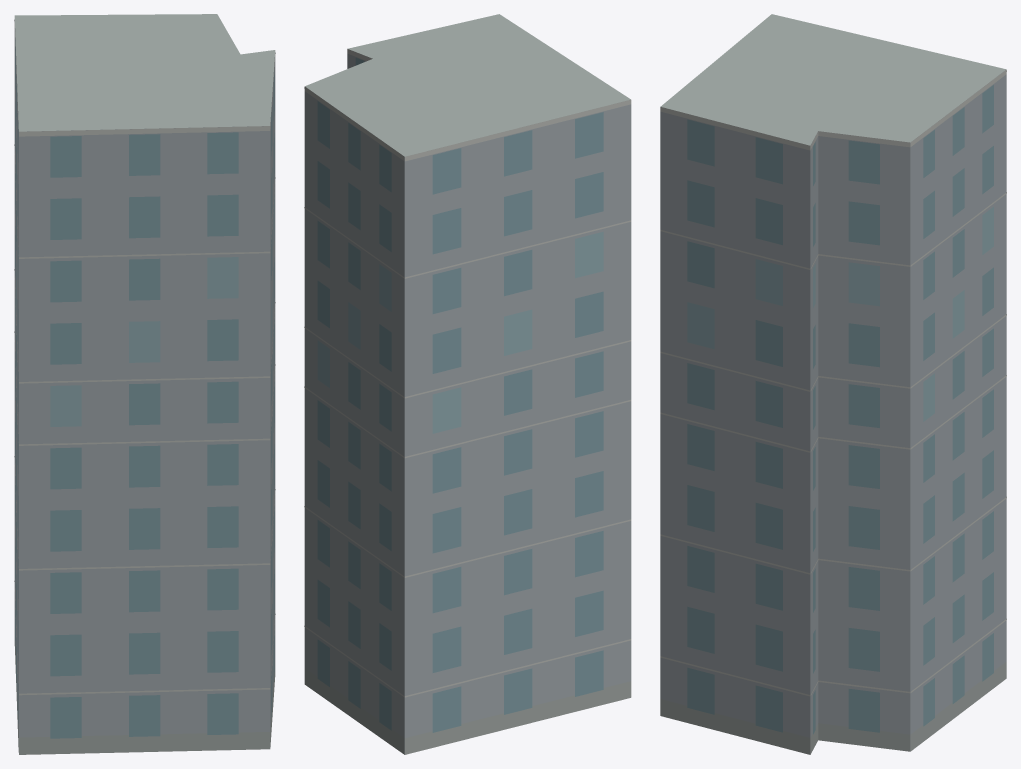
Rendered from residential-959e78e6-87bf-411b-b15a-c55bded22b0b.glb.
3 renders of one model, left to right at view 1: azimuth 30°, elevation 25°; view 2: azimuth 150°, elevation 25°; view 3: azimuth 270°, elevation 25°, orthographic. The views are drawn at different scales.
Parts seen in each view (by area): view 1: residential-959e78e6-87bf-411b-b15a-c55bded22b0b.tmp; view 2: residential-959e78e6-87bf-411b-b15a-c55bded22b0b.tmp; view 3: residential-959e78e6-87bf-411b-b15a-c55bded22b0b.tmp.
Part boxes in pixels (box(x1,y1,x2,y2)): residential-959e78e6-87bf-411b-b15a-c55bded22b0b.tmp: box(14, 14, 275, 754); residential-959e78e6-87bf-411b-b15a-c55bded22b0b.tmp: box(304, 14, 631, 754); residential-959e78e6-87bf-411b-b15a-c55bded22b0b.tmp: box(660, 14, 1006, 754).
Bounding box in the file's own units: 14.16 × 30.5 × 15.73.
